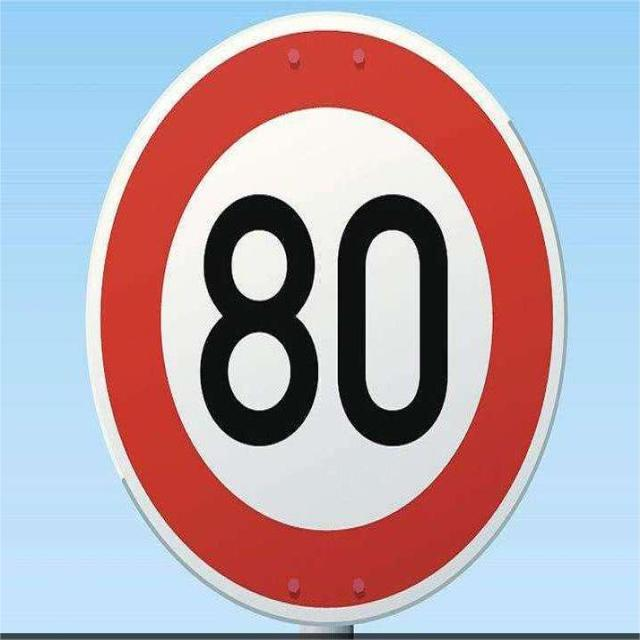speed limit 80: (84, 7, 570, 628)
